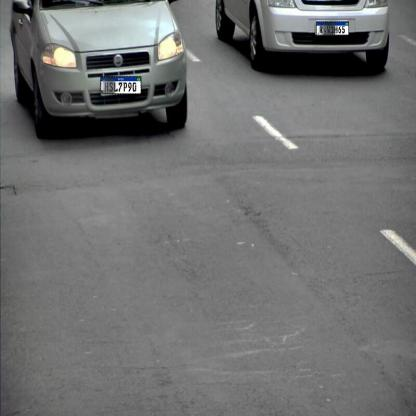PlacaM: (101, 76, 142, 94), (316, 22, 349, 36)
